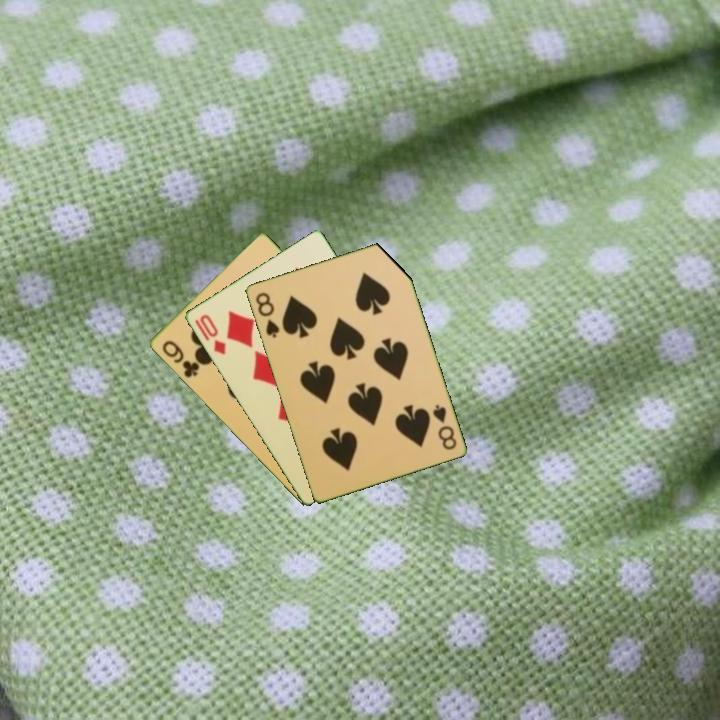10d: (196, 311, 228, 358)
8s: (252, 288, 282, 341), (429, 401, 459, 453)
9c: (158, 337, 202, 381)
